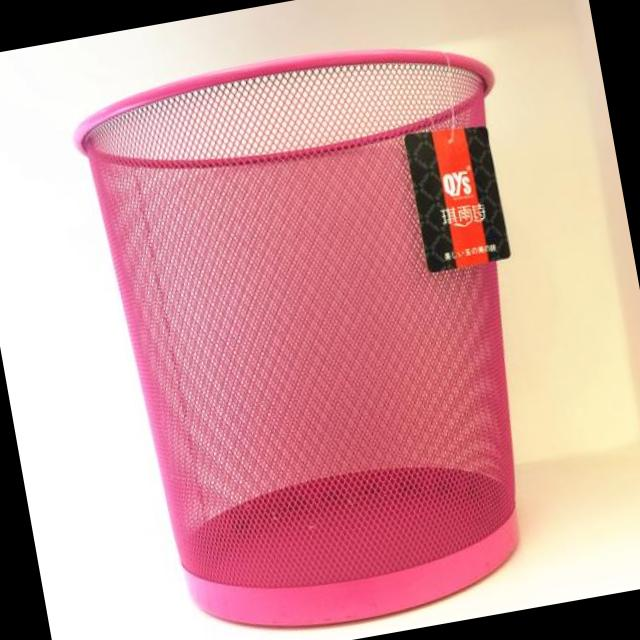dustbin: (59, 14, 594, 640)
